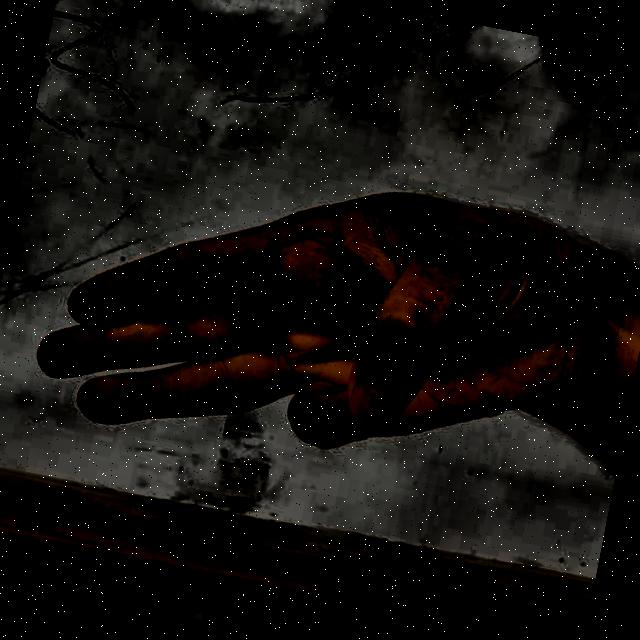Ma: (12, 112, 640, 531)
